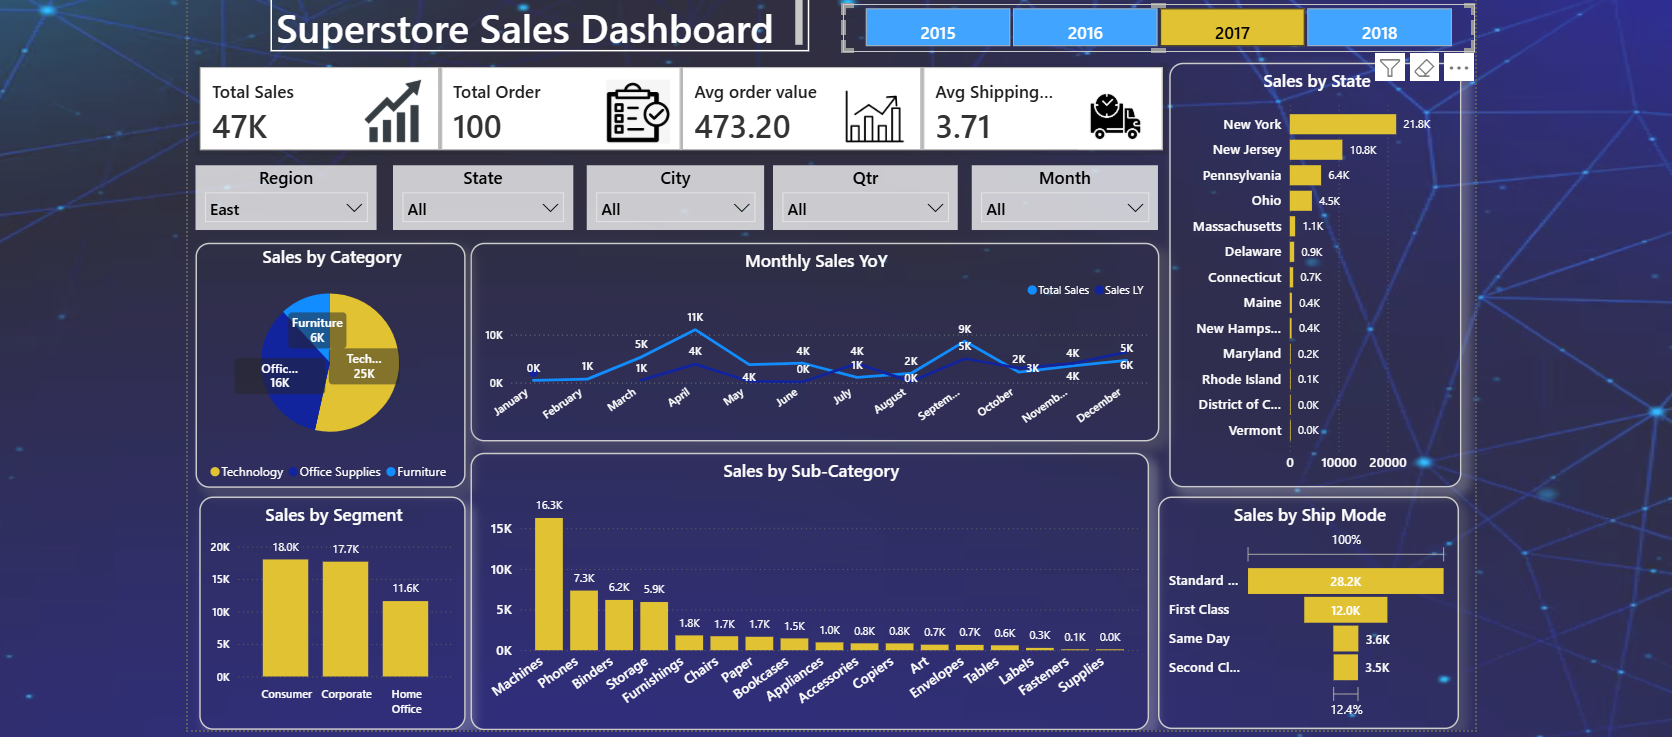

The dashboard page shown, as its layout file describes it:
{"tool":"powerbi","page":{"name":"Sales Analysis","canvas":[1400,800],"ordinal":0},"visuals":[{"type":"textbox","box":[89.7,0,585.6,62.5],"z":0},{"type":"cardVisual","fields":{"Data":["suprstore sales data.Total Sales","suprstore sales data.Total Order","suprstore sales data.Average order value","suprstore sales data.Average Shipping Days"]},"box":[8.2,74.7,1057.1,100.5],"z":1000},{"type":"lineChart","title":"Monthly Sales YoY","fields":{"Y":["suprstore sales data.Total Sales","suprstore sales data.Sales LY"],"Category":["Custom Calender.Date.Variation.Date Hierarchy.Month"]},"box":[307.1,270.4,748.6,216],"z":2000},{"type":"pieChart","title":"Sales by Category","fields":{"Category":["suprstore sales data.Category"],"Y":["suprstore sales data.Total Sales"]},"box":[8.2,270.4,293.5,266.3],"z":3000},{"type":"columnChart","title":"Sales by Segment","fields":{"Y":["suprstore sales data.Total Sales"],"Category":["suprstore sales data.Segment"]},"box":[12,546.3,289.7,253.6],"z":4000},{"type":"funnel","title":"Sales by Ship Mode","fields":{"Category":["suprstore sales data.Ship Mode"],"Y":["suprstore sales data.Total Sales"]},"box":[1054.4,546.2,327.4,252.7],"z":5000},{"type":"clusteredBarChart","title":"Sales by State","fields":{"Category":["suprstore sales data.State"],"Y":["suprstore sales data.Total Sales"]},"box":[1066.6,74.7,317.9,462],"z":6000},{"type":"advancedSlicerVisual","fields":{"Values":["Custom Calender.Date.Variation.Date Hierarchy.Year"]},"box":[712,10.9,687.5,51.6],"z":7000},{"type":"clusteredColumnChart","title":"Sales by Sub-Category","fields":{"Category":["suprstore sales data.Sub-Category"],"Y":["suprstore sales data.Total Sales"]},"box":[307.1,498.6,737.8,301.6],"z":8000},{"type":"slicer","title":"Region","fields":{"Values":["suprstore sales data.Region"]},"box":[8.2,186.1,197,70.7],"z":9000},{"type":"slicer","title":"City","fields":{"Values":["suprstore sales data.City"]},"box":[433.4,186.1,192.9,70.7],"z":10000},{"type":"slicer","title":"State","fields":{"Values":["suprstore sales data.State"]},"box":[222.8,186.1,195.7,70.7],"z":11000},{"type":"slicer","title":"Month","fields":{"Values":["Custom Calender.Date.Variation.Date Hierarchy.Month"]},"box":[851.9,186.1,202.4,70.7],"z":12000},{"type":"slicer","title":"Qtr","fields":{"Values":["Custom Calender.Date.Variation.Date Hierarchy.Quarter"]},"box":[635.9,186.1,201.1,70.7],"z":13000}]}

Visuals, with their boxes on the page's 1400x800 design canvas (x1, y1, x2, y2). These are canvas units, not pixel positions in the 1672x737 screenshot, which may show the page scaled, cropped or inside an application window:
textbox: (x1=90, y1=0, x2=675, y2=62)
cardVisual - suprstore sales data.Total Sales x suprstore sales data.Total Order: (x1=8, y1=75, x2=1065, y2=175)
"Monthly Sales YoY" lineChart: (x1=307, y1=270, x2=1056, y2=486)
"Sales by Category" pieChart: (x1=8, y1=270, x2=302, y2=537)
"Sales by Segment" columnChart: (x1=12, y1=546, x2=302, y2=800)
"Sales by Ship Mode" funnel: (x1=1054, y1=546, x2=1382, y2=799)
"Sales by State" clusteredBarChart: (x1=1067, y1=75, x2=1384, y2=537)
advancedSlicerVisual - Custom Calender.Date.Variation.Date Hierarchy.Year: (x1=712, y1=11, x2=1400, y2=62)
"Sales by Sub-Category" clusteredColumnChart: (x1=307, y1=499, x2=1045, y2=800)
"Region" slicer: (x1=8, y1=186, x2=205, y2=257)
"City" slicer: (x1=433, y1=186, x2=626, y2=257)
"State" slicer: (x1=223, y1=186, x2=418, y2=257)
"Month" slicer: (x1=852, y1=186, x2=1054, y2=257)
"Qtr" slicer: (x1=636, y1=186, x2=837, y2=257)
